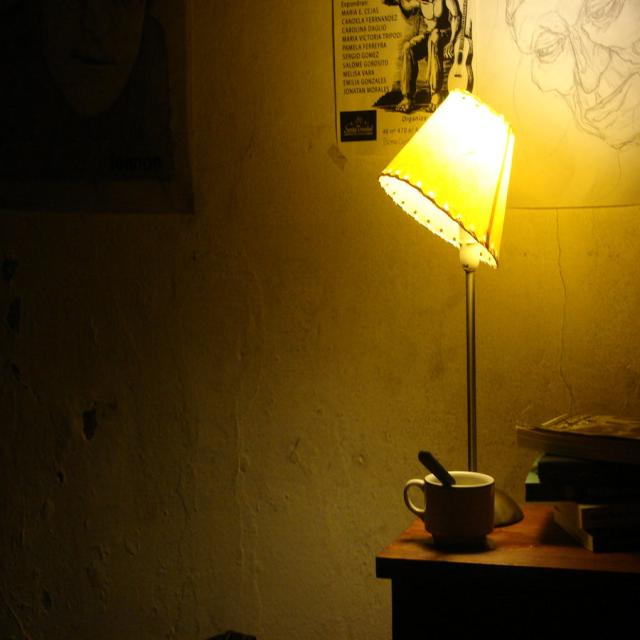Cup: (401, 453, 500, 569)
Table: (363, 413, 640, 640)
